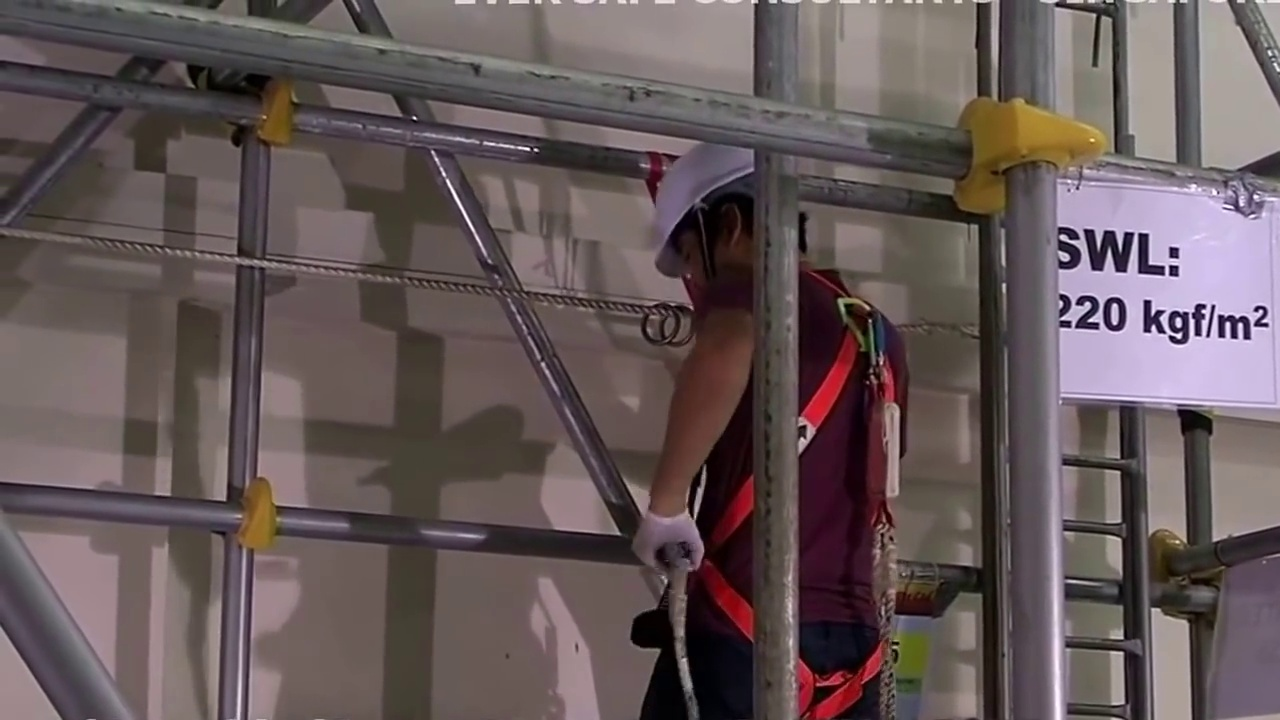harness: (795, 322, 893, 716)
helmet: (654, 150, 756, 249)
